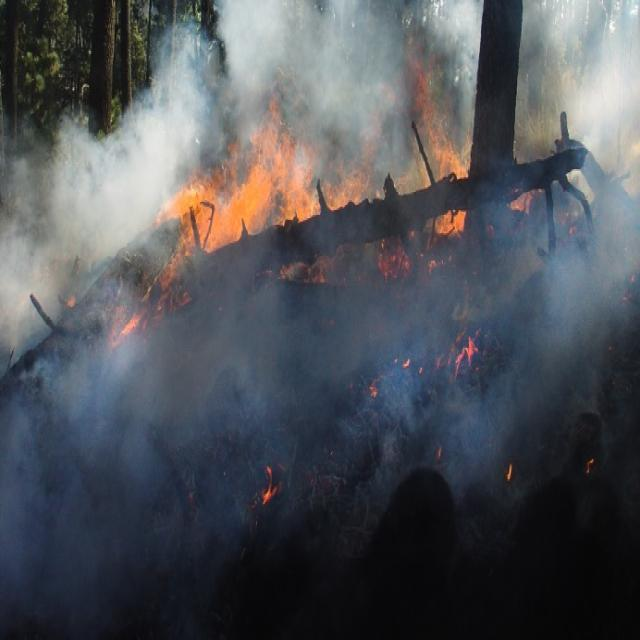Fire: (170, 163, 266, 274), (274, 111, 356, 219), (424, 61, 464, 243), (456, 335, 482, 378), (259, 461, 280, 512)
Smoke: (14, 360, 233, 606), (0, 100, 118, 326), (125, 16, 244, 152), (537, 204, 628, 370), (252, 8, 397, 106), (546, 7, 626, 144)
